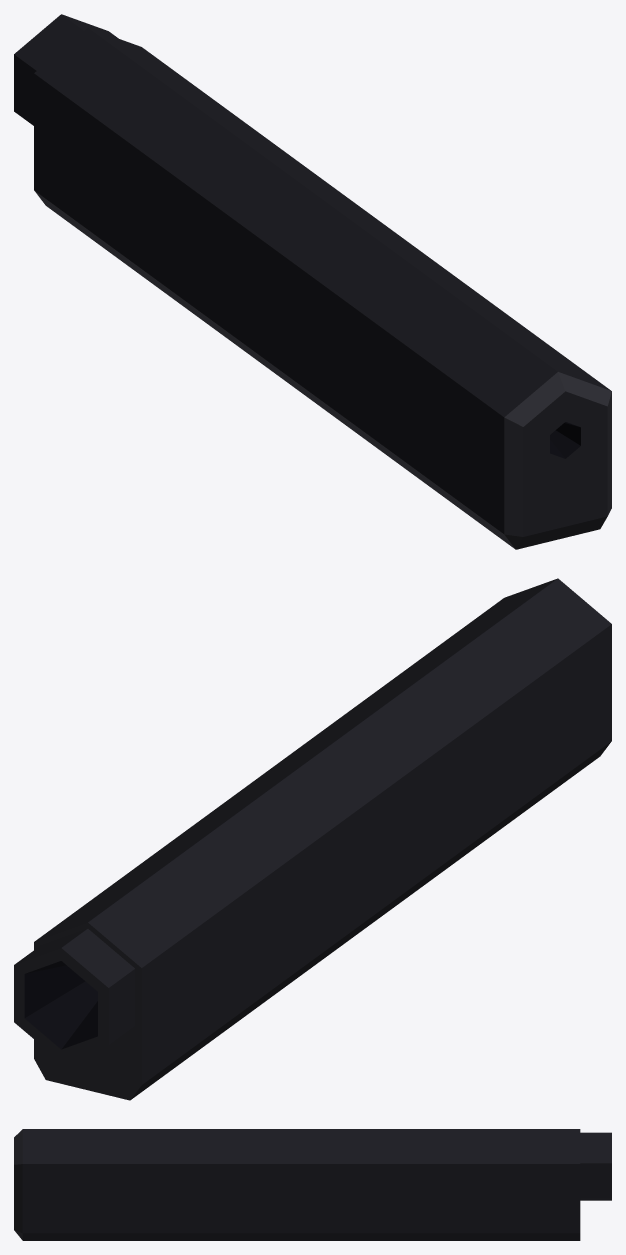
Rendered from MW1_MuzzleDevice_5.56mm_02.fbx.
3 views of the same model, one above another, from view 1: azimuth 30°, elevation 25°; view 2: azimuth 150°, elevation 25°; view 3: azimuth 270°, elevation 25° (orthographic). The views are drawn at different scales.
Visible parts, largest first — view 1: MuzzleDevice_5.56mm_02; view 2: MuzzleDevice_5.56mm_02; view 3: MuzzleDevice_5.56mm_02.
Part boxes in pixels (<box>): MuzzleDevice_5.56mm_02: <box>14,14,611,549</box>; MuzzleDevice_5.56mm_02: <box>14,578,611,1100</box>; MuzzleDevice_5.56mm_02: <box>14,1129,611,1240</box>.
Bounding box in the file's own units: 1.68 × 2.5 × 13.64.
